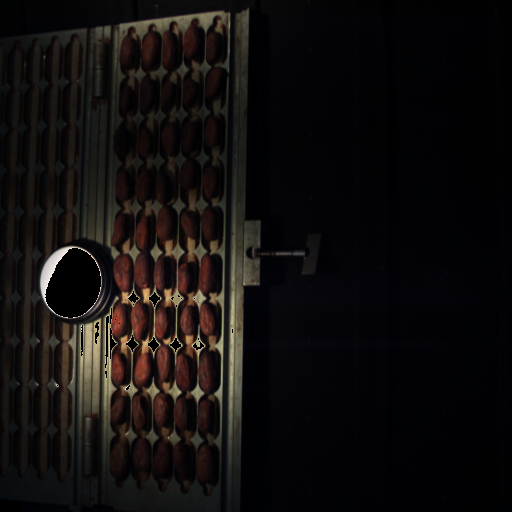bueno: (199, 351, 217, 393), (110, 443, 129, 478), (199, 256, 216, 293), (175, 444, 192, 478), (174, 397, 192, 429), (155, 170, 172, 202), (207, 68, 223, 102), (163, 31, 177, 69), (162, 122, 177, 156), (138, 126, 153, 158), (182, 78, 198, 106), (183, 210, 197, 239)
malo: (182, 25, 202, 60), (114, 254, 132, 291), (131, 303, 149, 339), (119, 34, 137, 69), (176, 354, 194, 389), (157, 205, 174, 241), (202, 206, 219, 241), (134, 254, 151, 288), (111, 303, 128, 337), (112, 214, 130, 246), (138, 77, 155, 110), (203, 165, 220, 198), (200, 302, 217, 335), (156, 346, 171, 383), (204, 116, 221, 148), (198, 401, 215, 433), (154, 306, 170, 339), (178, 263, 195, 294), (111, 396, 128, 426), (134, 438, 149, 472), (136, 170, 152, 201), (115, 168, 130, 201), (180, 160, 195, 193), (182, 121, 198, 151), (158, 80, 175, 108), (132, 396, 145, 430), (155, 394, 168, 428), (116, 128, 130, 155), (120, 84, 133, 112)
parcial: (141, 31, 160, 71), (152, 442, 172, 478), (134, 353, 153, 387), (111, 352, 129, 387), (197, 445, 214, 482), (155, 255, 170, 290), (180, 304, 196, 335), (207, 31, 222, 63), (136, 217, 150, 249)
